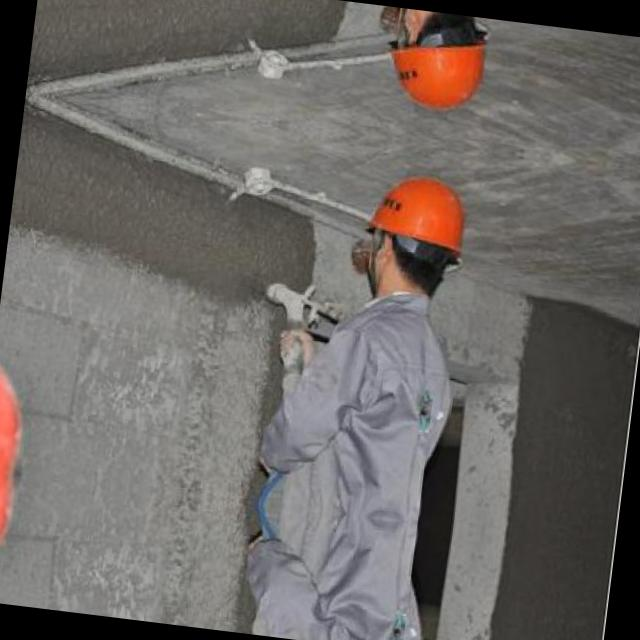helmet: (344, 151, 485, 311), (365, 5, 504, 132)
